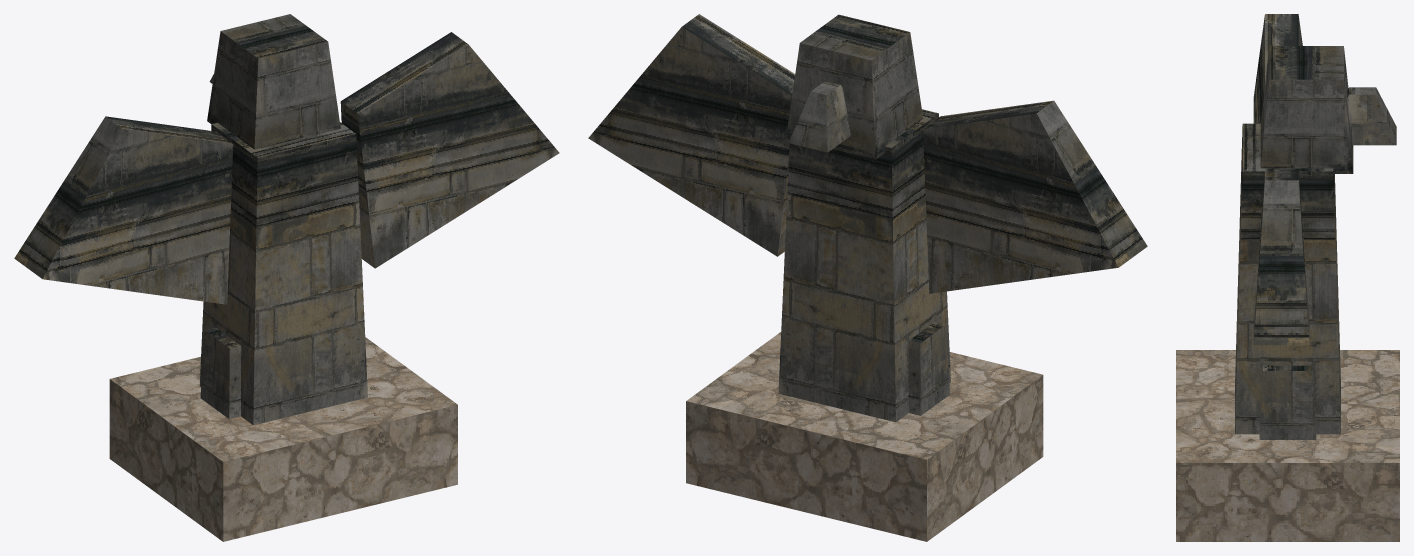
Rendered from temple_statue_garuda.glb.
3 views of the same model, side by side, from view 1: azimuth 30°, elevation 25°; view 2: azimuth 150°, elevation 25°; view 3: azimuth 270°, elevation 25° (orthographic). The views are drawn at different scales.
Visible parts, largest first — view 1: temple_statue_garuda; view 2: temple_statue_garuda; view 3: temple_statue_garuda.
Part boxes in pixels (x1,y1,x2,y2): temple_statue_garuda: [14, 14, 559, 541]; temple_statue_garuda: [588, 14, 1147, 541]; temple_statue_garuda: [1176, 14, 1399, 541].
Size of the model in its own units: 1.89 by 1.5 by 0.72.
Materials: 2 (2 with a texture image).
